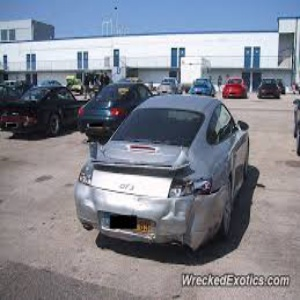bumper: (157, 193, 223, 246)
